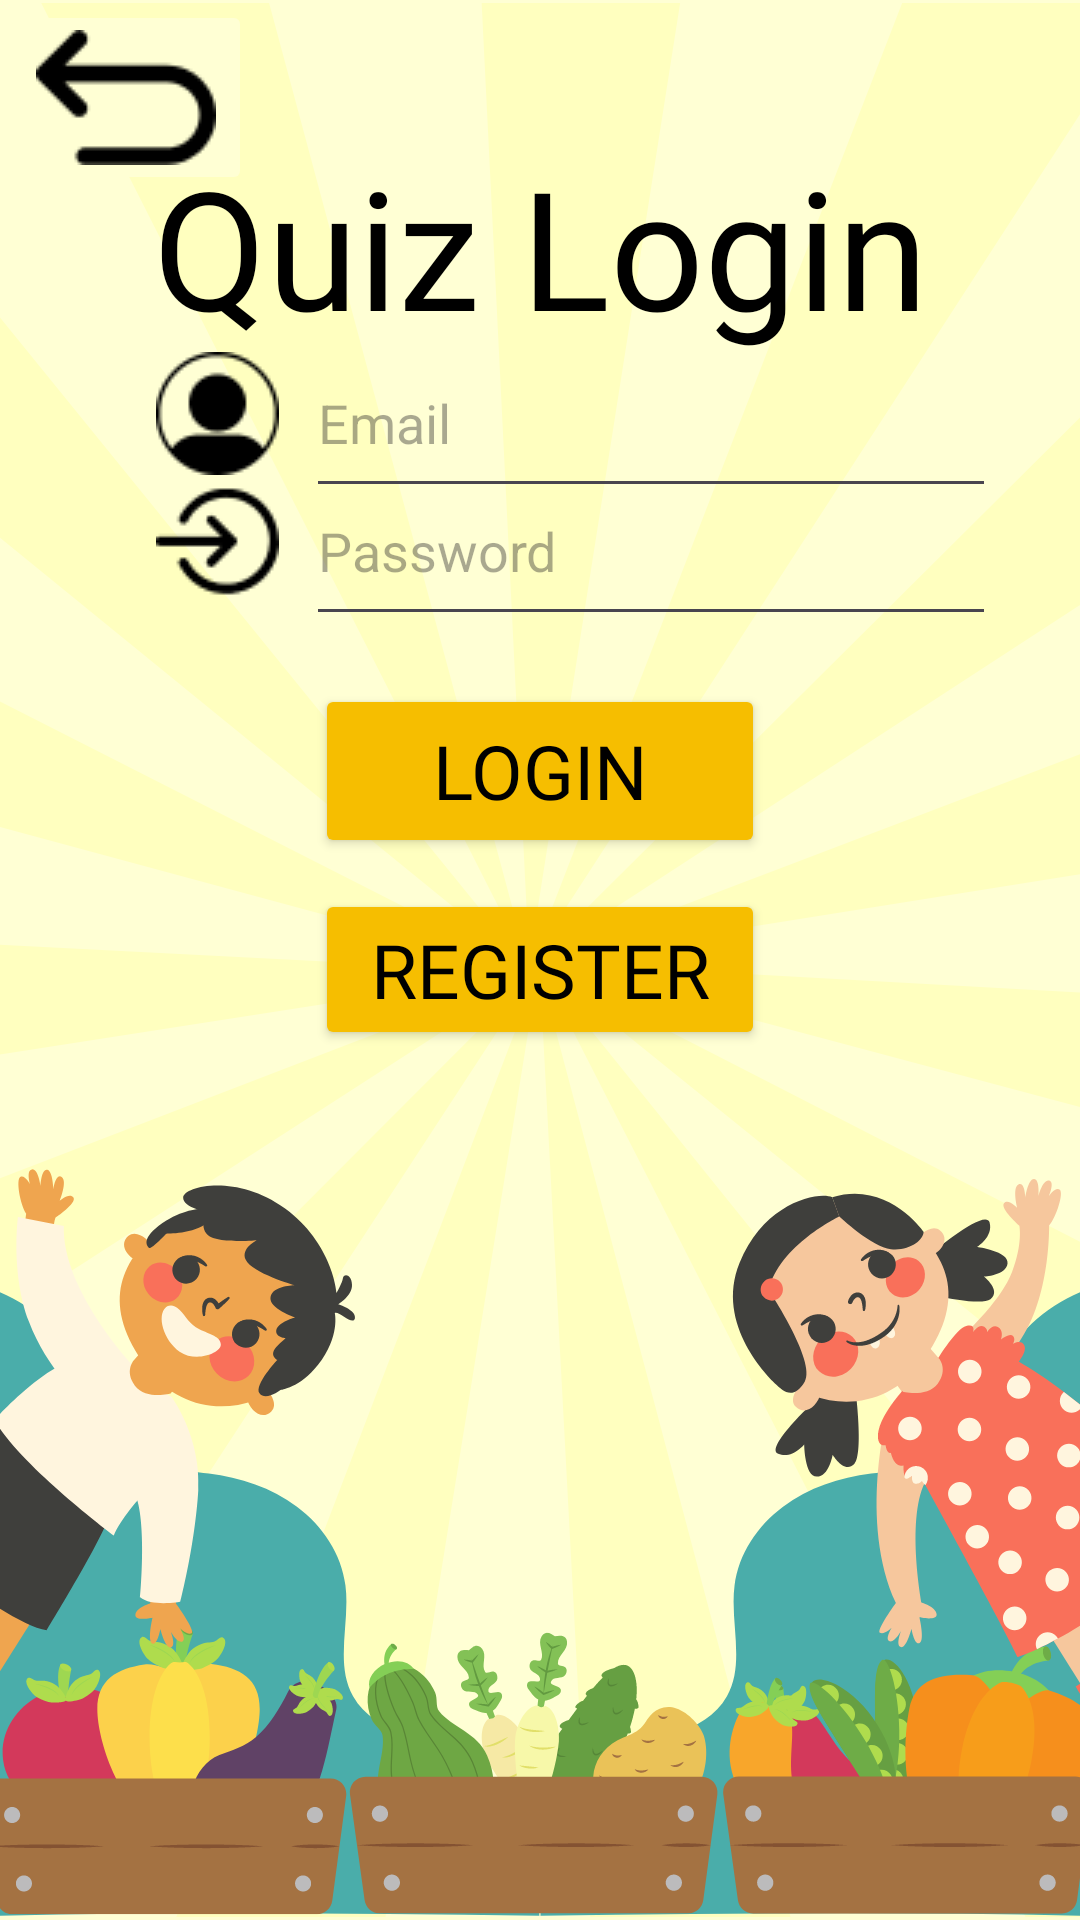

Named icons in this screenshot (1080×1920) and their bounding boxes, (x1, y1, x2, y2):
Back: (36, 30, 216, 165)
